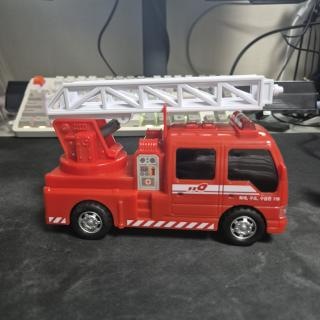Fire_truck: (44, 75, 288, 245)
